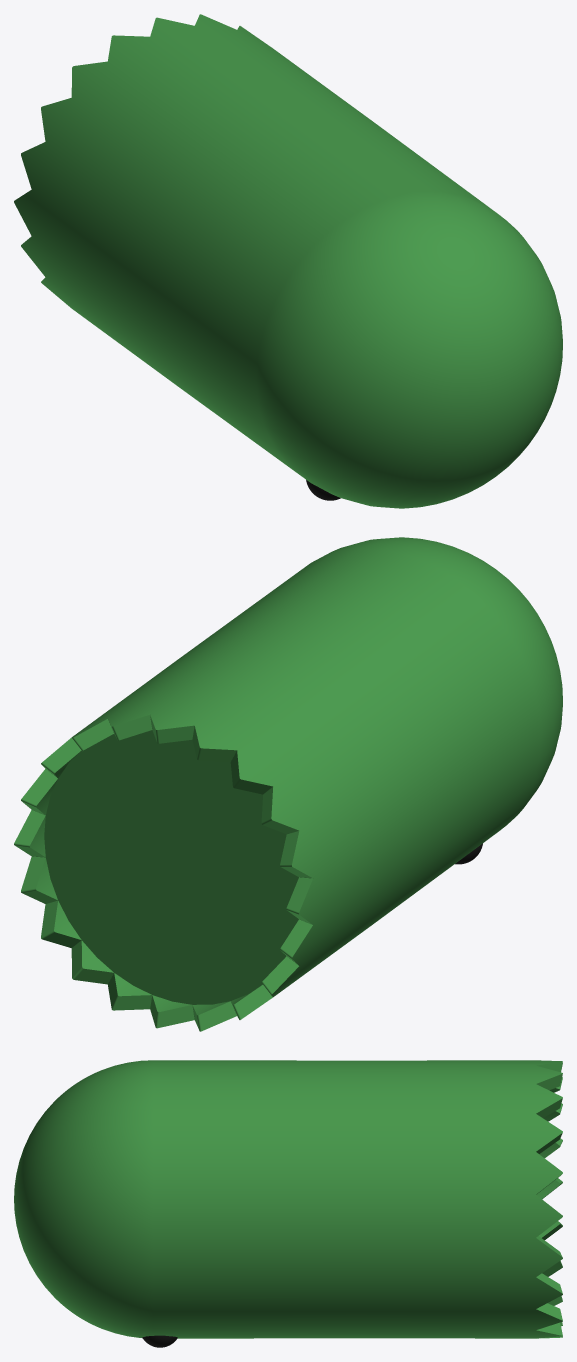
File: Ghost green.fbx
3 renders of one model, top to bottom at view 1: azimuth 30°, elevation 25°; view 2: azimuth 150°, elevation 25°; view 3: azimuth 270°, elevation 25°, orthographic. The views are drawn at different scales.
Parts seen in each view (by area): view 1: Body4; view 2: Body4; view 3: Body4.
Part boxes in pixels (<box>): Body4: <box>14,14,562,508</box>; Body4: <box>14,537,562,1031</box>; Body4: <box>14,1060,562,1338</box>.
Size of the model in its own units: 200 by 200 by 394.
